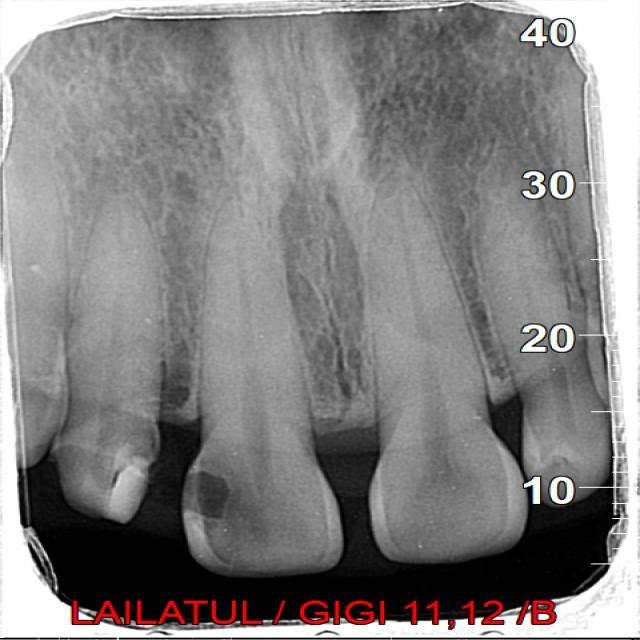individual-tooth-8tto: (364, 172, 524, 561), (187, 203, 345, 570)
